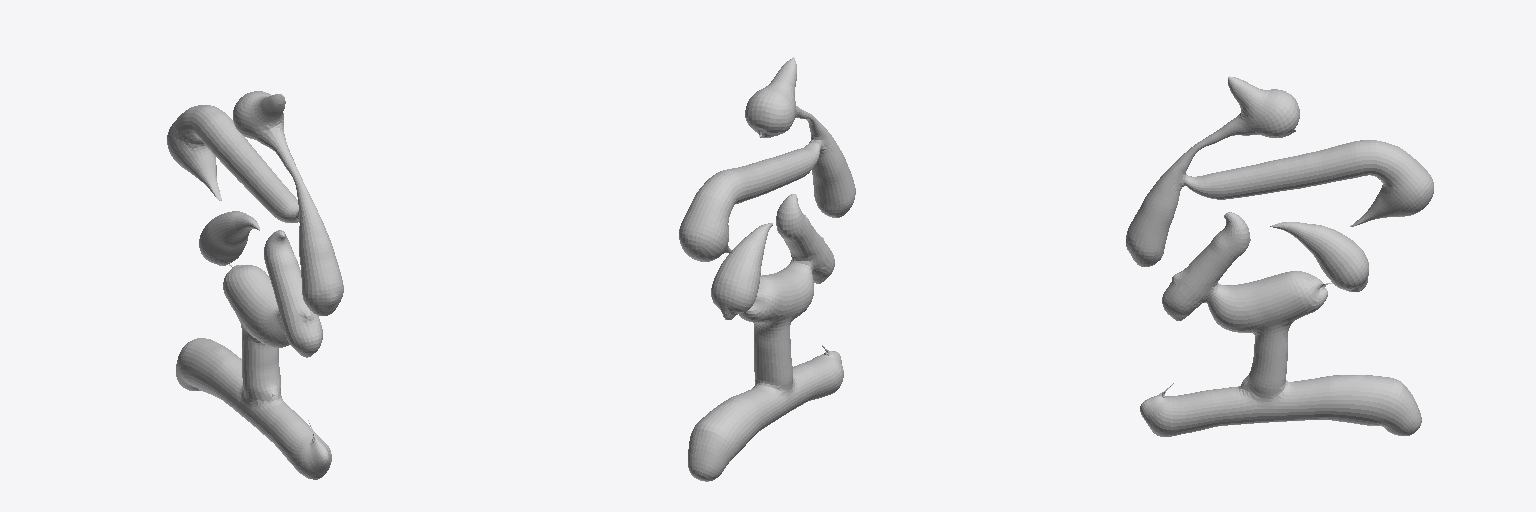
3 views of the same model, side by side, from view 1: azimuth 30°, elevation 25°; view 2: azimuth 150°, elevation 25°; view 3: azimuth 270°, elevation 25° (orthographic).
Visible parts, largest first — view 1: tripo_node_754d1231-5f5e-428e-91e4-4c327ff5f2ea; view 2: tripo_node_754d1231-5f5e-428e-91e4-4c327ff5f2ea; view 3: tripo_node_754d1231-5f5e-428e-91e4-4c327ff5f2ea.
Part boxes in pixels (bbox=[...]): tripo_node_754d1231-5f5e-428e-91e4-4c327ff5f2ea: bbox=[167, 91, 343, 479]; tripo_node_754d1231-5f5e-428e-91e4-4c327ff5f2ea: bbox=[679, 57, 855, 481]; tripo_node_754d1231-5f5e-428e-91e4-4c327ff5f2ea: bbox=[1126, 76, 1433, 436].
Bounding box in the file's own units: 0.1238 × 0.9915 × 0.7721.